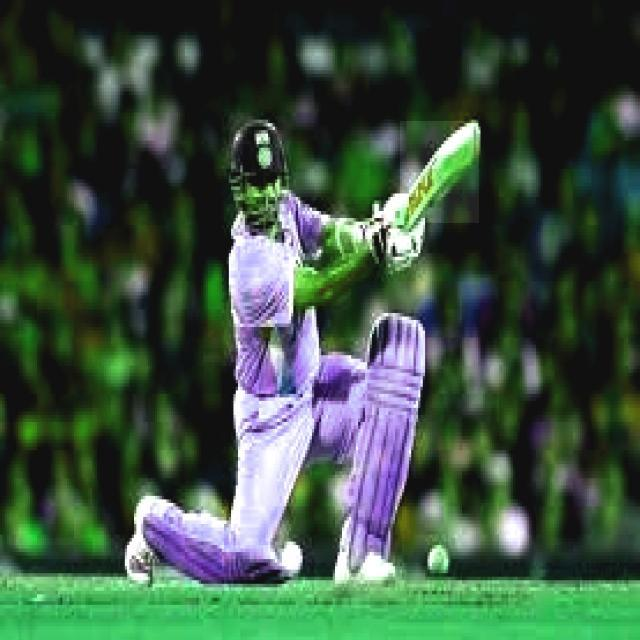bat: (400, 118, 480, 225)
toe: (460, 122, 482, 169)
